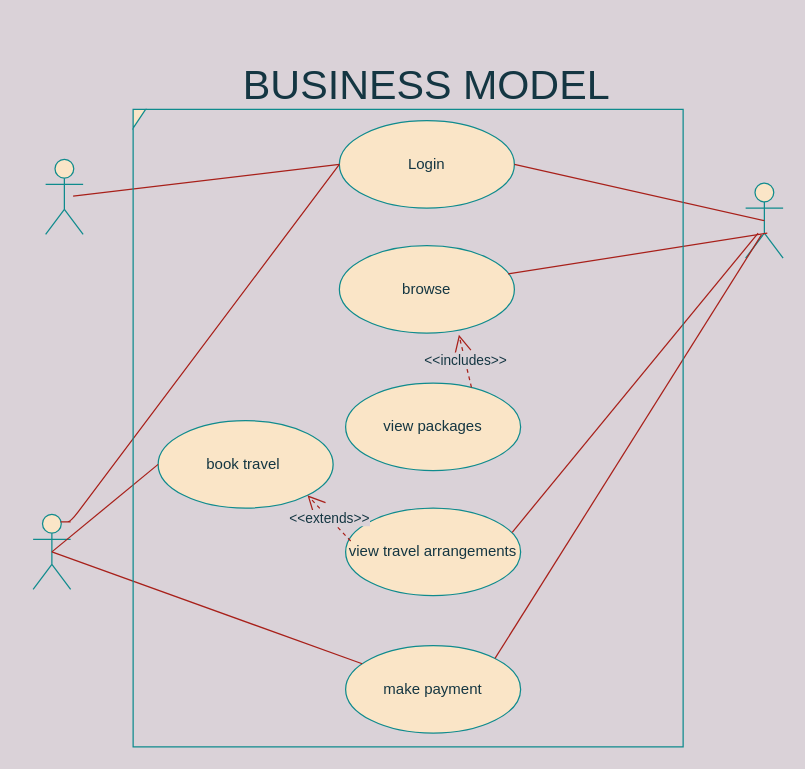
Some shapes in this 805 by 769 pixel diagram are drawn without their labels. Each missing label, with the centre of its shape:
"Agent" belongs at point (51, 551).
"Super Admin" belongs at point (63, 196).
"user" belongs at point (763, 220).
